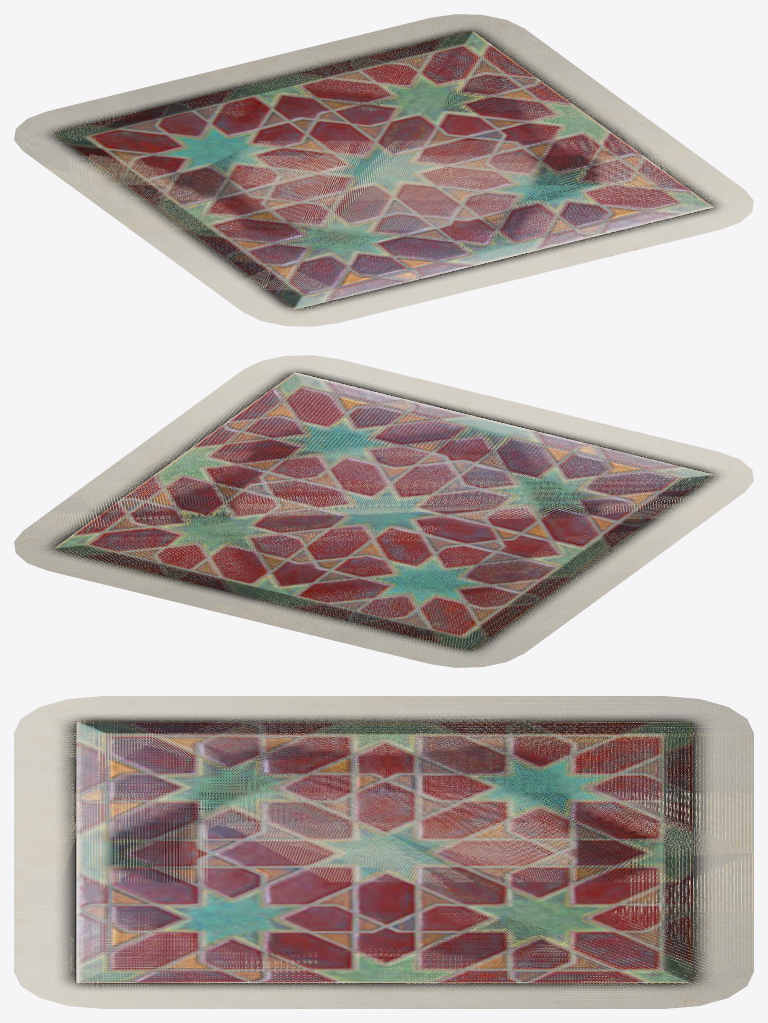
The model's file is card22.fbx.
The picture shows the model from 3 angles, top to bottom: view 1: azimuth 30°, elevation 25°; view 2: azimuth 150°, elevation 25°; view 3: azimuth 270°, elevation 25°; orthographic projection. The views are drawn at different scales.
Visible parts, largest first — view 1: polySurface1; view 2: polySurface1; view 3: polySurface1.
Boxes of the visible parts, left/top/right/bottom form: polySurface1: left=14, top=14, right=753, bottom=326; polySurface1: left=14, top=355, right=753, bottom=667; polySurface1: left=14, top=696, right=753, bottom=1008.
Bounding box in the file's own units: 1 × 0 × 1.
